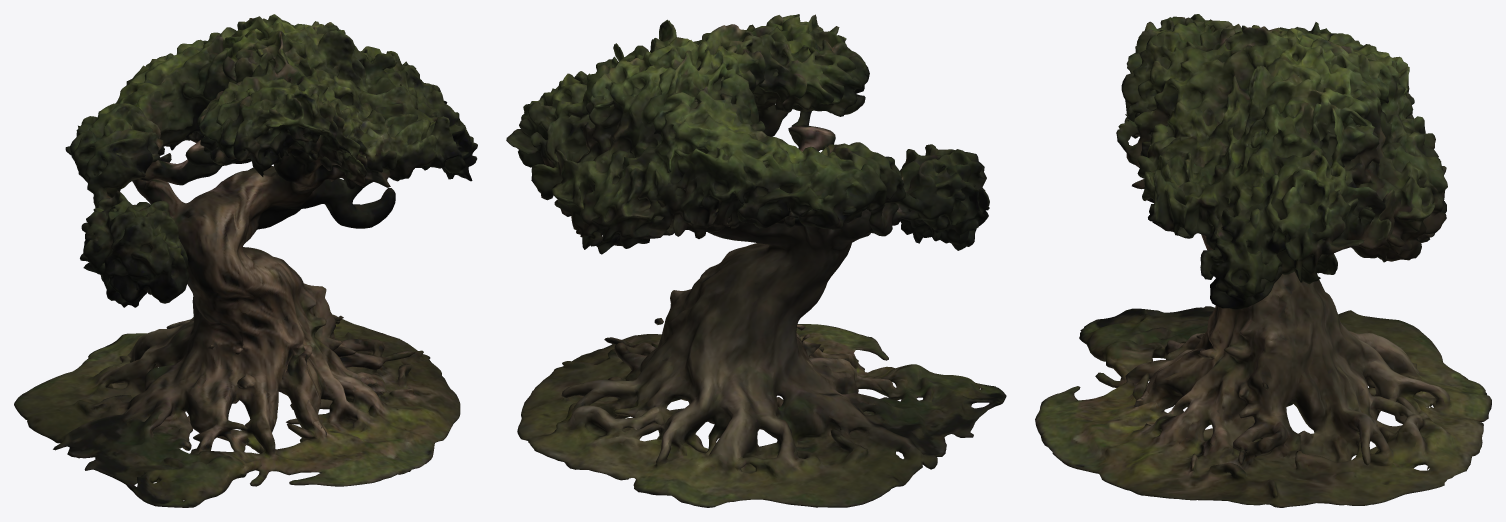
The model's file is twisted_dark_fantasy__0502100554.fbx.
3 views of the same model, side by side, from view 1: azimuth 30°, elevation 25°; view 2: azimuth 150°, elevation 25°; view 3: azimuth 270°, elevation 25° (orthographic). The views are drawn at different scales.
Parts seen in each view (by area): view 1: Mesh_0; view 2: Mesh_0; view 3: Mesh_0.
Part boxes in pixels (x1=…): Mesh_0: x1=14, y1=14, x2=477, y2=507; Mesh_0: x1=506, y1=14, x2=1006, y2=507; Mesh_0: x1=1035, y1=14, x2=1491, y2=507.
Bounding box in the file's own units: 198 × 171 × 174.
Materials: 1 (1 with a texture image).
